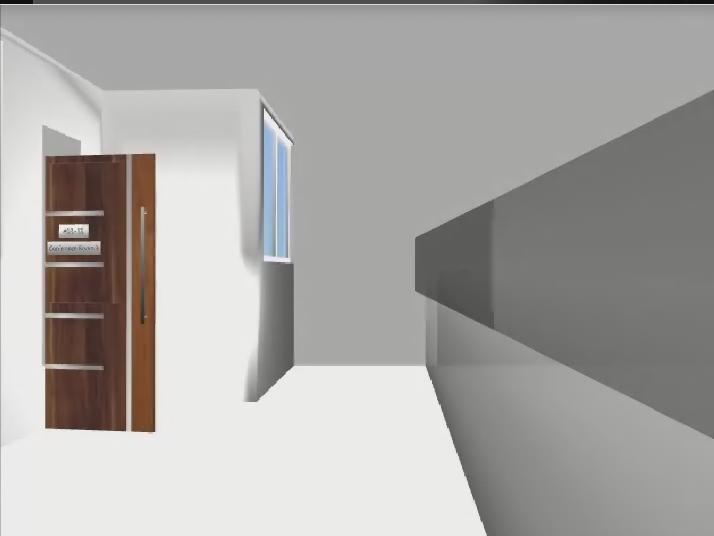door: (46, 154, 155, 432)
